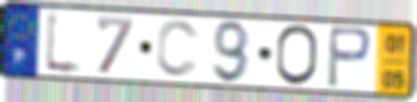7: (93, 14, 136, 77)
9: (211, 18, 254, 87)
C: (153, 18, 203, 81)
L: (42, 8, 87, 79)
O: (274, 23, 321, 89)
P: (325, 24, 375, 91)
